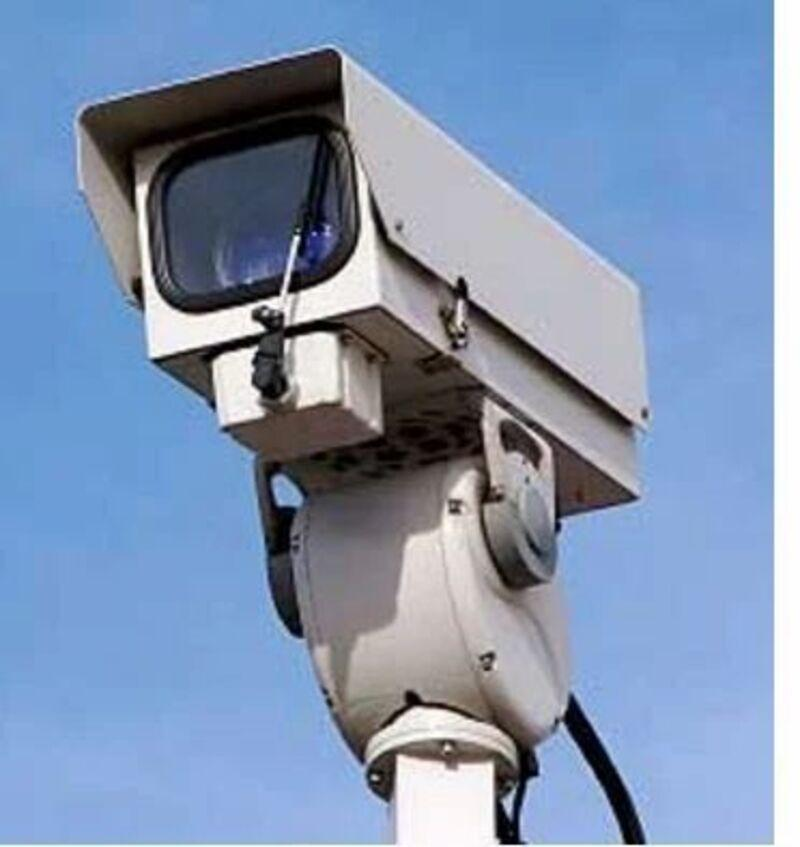box: (59, 43, 657, 523)
